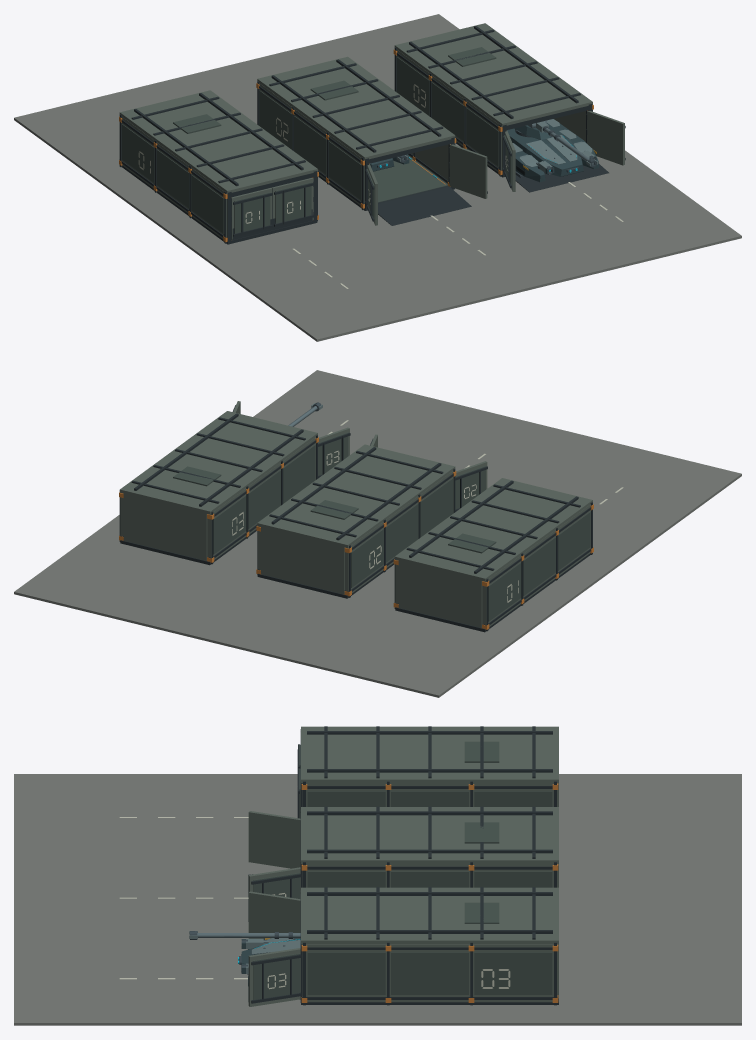
The model's file is mork_container_low_diorama.glb.
3 views of the same model, one above another, from view 1: azimuth 30°, elevation 25°; view 2: azimuth 150°, elevation 25°; view 3: azimuth 270°, elevation 25° (orthographic). The views are drawn at different scales.
Visible parts, largest first — view 1: Geometry_ROOT.003_Container game / vertex palette, Geometry_ROOF_03_Container game / vertex palette, Geometry_ROOF_02.001_Container game / vertex palette, Geometry_ROOF_01.001_Container game / vertex palette, Geometry_SHELL_02.001_Container game / vertex palette, Geometry_SHELL_01.001_Container game / vertex palette, Geometry_SHELL_03_Container game / vertex palette, Geometry_VEHICLE_03_Container game / vertex palette, Geometry_RAMP_02.001_Container game / vertex palette, Geometry_DOOR_02_R.001_Container game / vertex palette, Geometry_DOOR_01_L.001_Container game / vertex palette, Geometry_DOOR_01_R.001_Container game / vertex palette (+4 smaller); view 2: Geometry_ROOT.003_Container game / vertex palette, Geometry_SHELL_01.001_Container game / vertex palette, Geometry_ROOF_02.001_Container game / vertex palette, Geometry_ROOF_01.001_Container game / vertex palette, Geometry_ROOF_03_Container game / vertex palette, Geometry_SHELL_02.001_Container game / vertex palette, Geometry_SHELL_03_Container game / vertex palette, Geometry_DOOR_02_L.001_Container game / vertex palette, Geometry_DOOR_03_L_Container game / vertex palette; view 3: Geometry_ROOT.003_Container game / vertex palette, Geometry_SHELL_03_Container game / vertex palette, Geometry_ROOF_02.001_Container game / vertex palette, Geometry_ROOF_01.001_Container game / vertex palette, Geometry_ROOF_03_Container game / vertex palette, Geometry_SHELL_02.001_Container game / vertex palette, Geometry_SHELL_01.001_Container game / vertex palette, Geometry_DOOR_03_R_Container game / vertex palette, Geometry_DOOR_02_L.001_Container game / vertex palette, Geometry_DOOR_03_L_Container game / vertex palette, Geometry_VEHICLE_03_Container game / vertex palette, Geometry_DOOR_02_R.001_Container game / vertex palette.
Part boxes in pixels (x1,y1,x2,y2): Geometry_ROOT.003_Container game / vertex palette: (14,14,741,341); Geometry_ROOF_03_Container game / vertex palette: (394,23,592,126); Geometry_ROOF_02.001_Container game / vertex palette: (257,56,455,160); Geometry_ROOF_01.001_Container game / vertex palette: (119,90,317,193); Geometry_SHELL_02.001_Container game / vertex palette: (256,81,456,210); Geometry_SHELL_01.001_Container game / vertex palette: (119,114,318,244); Geometry_SHELL_03_Container game / vertex palette: (393,47,593,177); Geometry_VEHICLE_03_Container game / vertex palette: (507,119,598,182); Geometry_RAMP_02.001_Container game / vertex palette: (378,187,471,225); Geometry_DOOR_02_R.001_Container game / vertex palette: (449,144,487,198); Geometry_DOOR_01_L.001_Container game / vertex palette: (231,187,272,239); Geometry_DOOR_01_R.001_Container game / vertex palette: (272,178,313,226); Geometry_ROOT.003_Container game / vertex palette: (14,370,741,697); Geometry_SHELL_01.001_Container game / vertex palette: (393,502,593,632); Geometry_ROOF_02.001_Container game / vertex palette: (257,444,455,548); Geometry_ROOF_01.001_Container game / vertex palette: (394,478,592,581); Geometry_ROOF_03_Container game / vertex palette: (119,411,317,514); Geometry_SHELL_02.001_Container game / vertex palette: (256,468,456,598); Geometry_SHELL_03_Container game / vertex palette: (119,435,318,565); Geometry_DOOR_02_L.001_Container game / vertex palette: (455,461,487,511); Geometry_DOOR_03_L_Container game / vertex palette: (318,427,350,478); Geometry_ROOT.003_Container game / vertex palette: (14,774,741,1025); Geometry_SHELL_03_Container game / vertex palette: (300,890,558,1005); Geometry_ROOF_02.001_Container game / vertex palette: (301,806,558,863); Geometry_ROOF_01.001_Container game / vertex palette: (301,726,558,783); Geometry_ROOF_03_Container game / vertex palette: (301,887,558,944); Geometry_SHELL_02.001_Container game / vertex palette: (300,810,558,889); Geometry_SHELL_01.001_Container game / vertex palette: (300,729,558,809); Geometry_DOOR_03_R_Container game / vertex palette: (248,948,301,1006); Geometry_DOOR_02_L.001_Container game / vertex palette: (248,811,300,868); Geometry_DOOR_03_L_Container game / vertex palette: (248,891,300,940); Geometry_VEHICLE_03_Container game / vertex palette: (189,931,300,986); Geometry_DOOR_02_R.001_Container game / vertex palette: (248,867,301,898).
Size of the model in its own units: 34 by 4.46 by 42.
